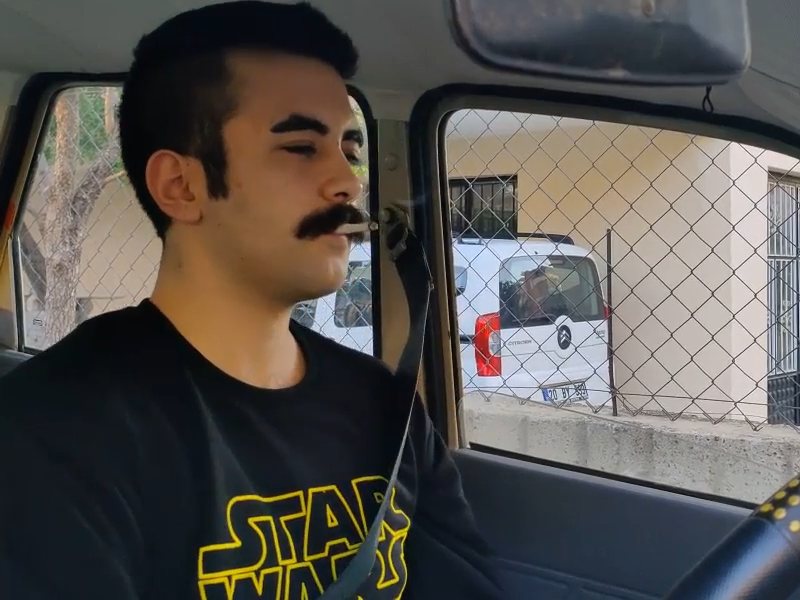sigara: (334, 216, 384, 240)
